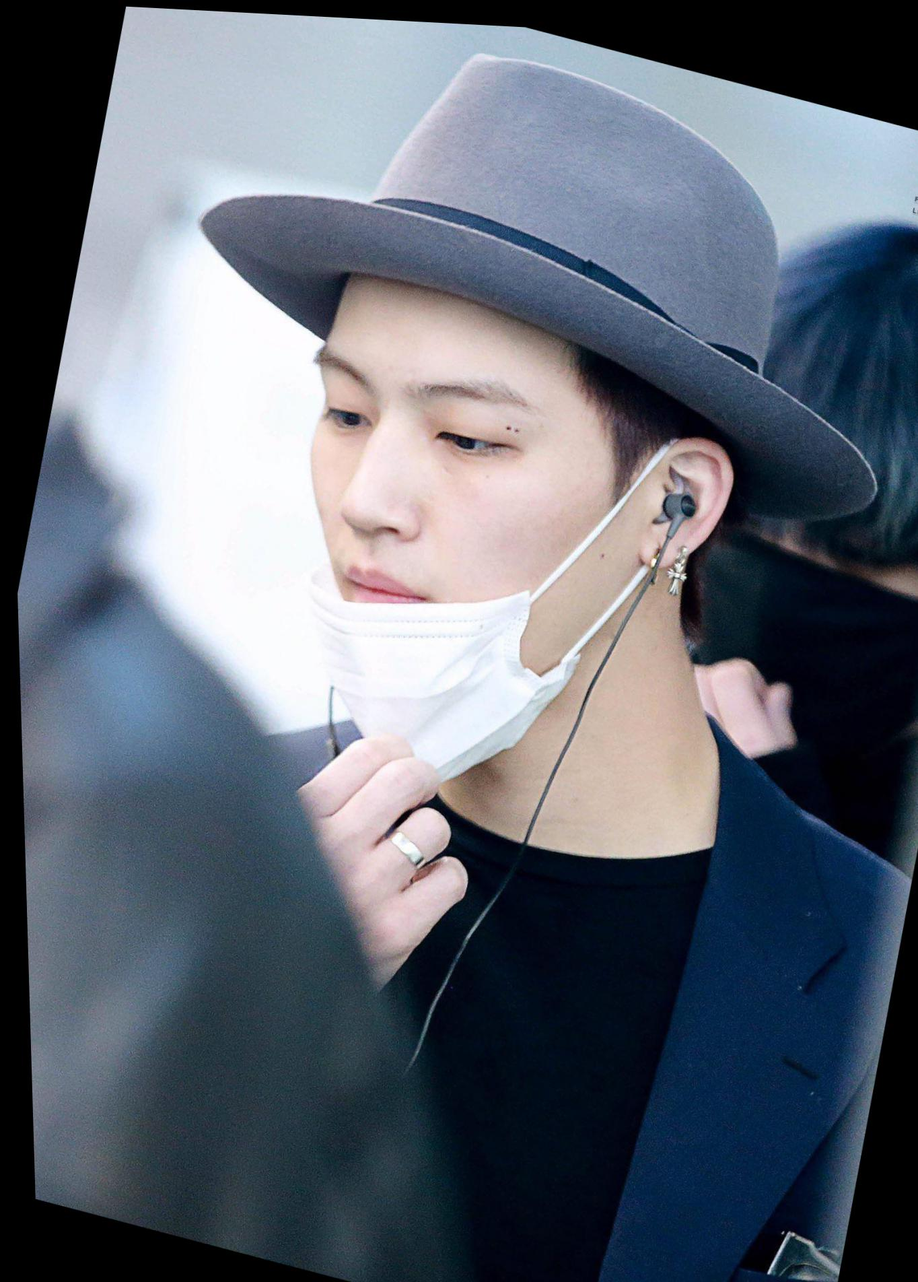WRONG: (242, 295, 644, 762)
